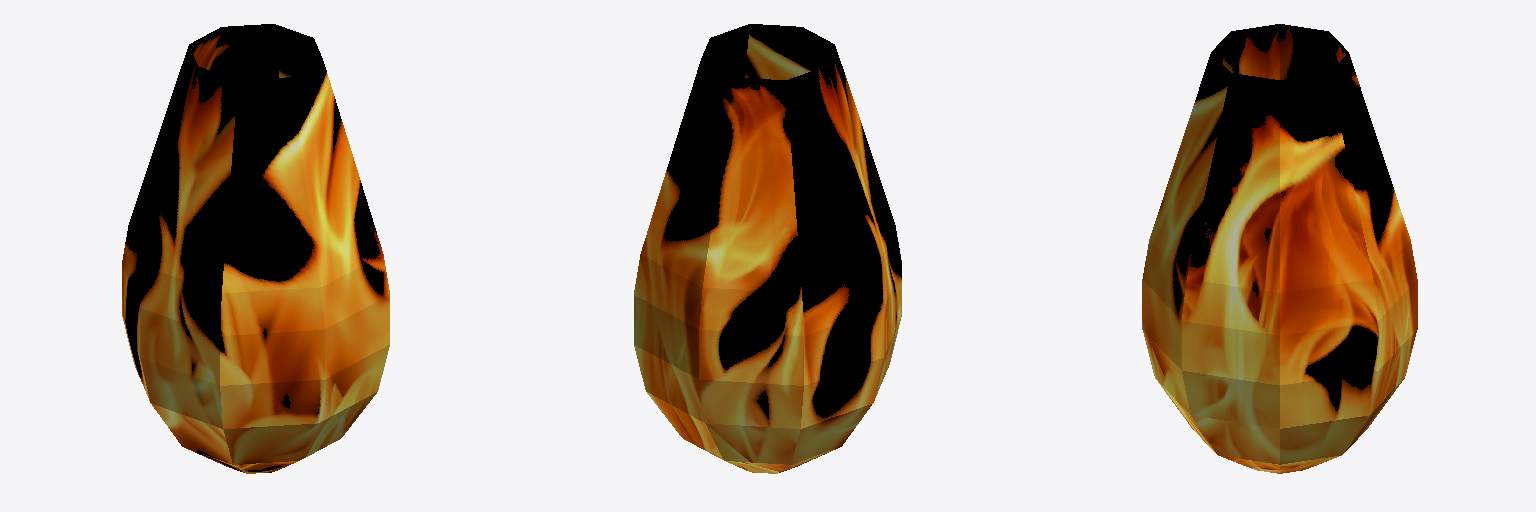
3 views of the same model, side by side, from view 1: azimuth 30°, elevation 25°; view 2: azimuth 150°, elevation 25°; view 3: azimuth 270°, elevation 25° (orthographic).
Parts seen in each view (by area): view 1: Component_1; view 2: Component_1; view 3: Component_1.
Part boxes in pixels (bbox=[...]): Component_1: bbox=[122, 24, 389, 473]; Component_1: bbox=[634, 24, 901, 473]; Component_1: bbox=[1142, 24, 1417, 473].
Size of the model in its own units: 25.84 by 43.5 by 26.6.
Materials: 1 (1 with a texture image).